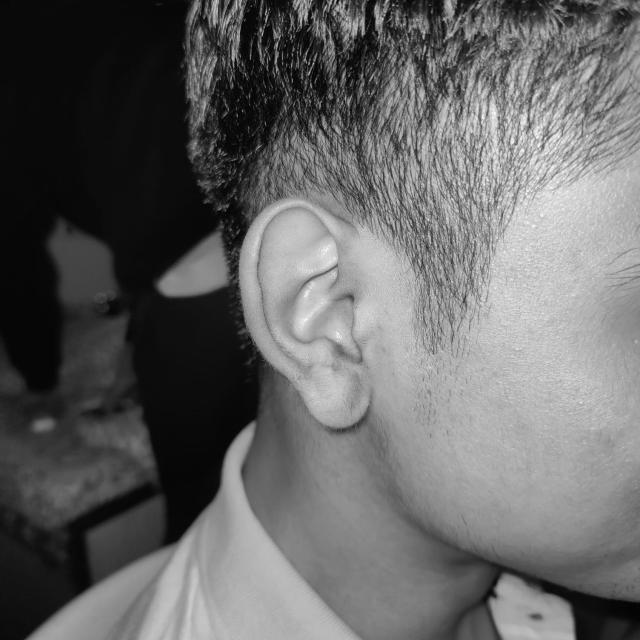ear: (240, 198, 370, 429)
